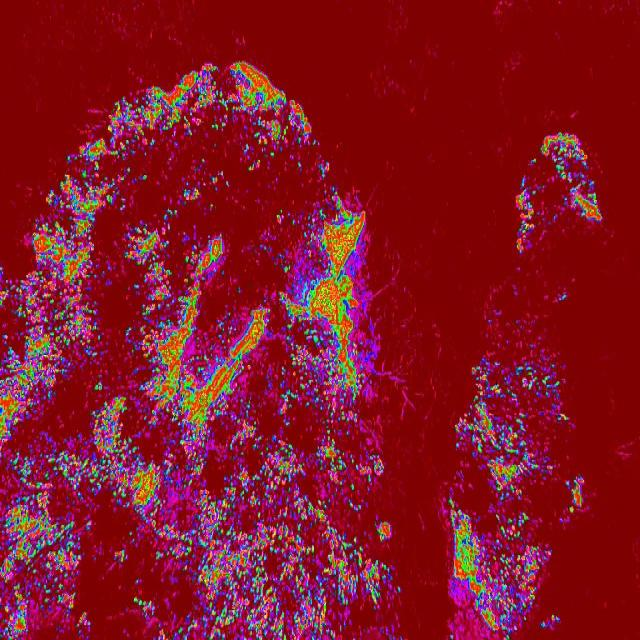fire: (0, 429, 399, 640), (0, 204, 374, 428), (44, 138, 342, 204), (453, 356, 571, 489), (446, 505, 556, 640), (105, 87, 313, 139), (515, 130, 605, 222), (176, 58, 274, 87), (508, 192, 542, 252), (570, 478, 583, 514)
